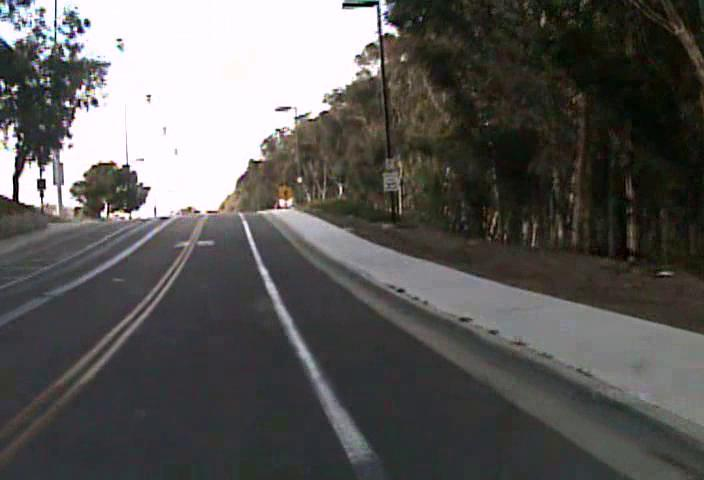speedLimitUrdbl: (382, 170, 400, 192)
